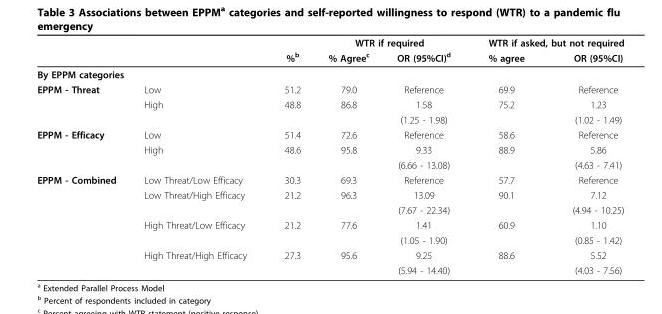table: (36, 36, 623, 275)
table column: (129, 36, 264, 275), (36, 36, 129, 275), (382, 36, 468, 275), (468, 36, 547, 275), (547, 36, 623, 275), (313, 36, 382, 275), (264, 36, 313, 275)
table column header: (36, 36, 623, 65)
table projected row header: (36, 65, 623, 81)
table row: (36, 49, 623, 65), (36, 65, 623, 81), (36, 141, 623, 157), (36, 171, 623, 187), (36, 81, 623, 96), (36, 96, 623, 111), (36, 111, 623, 126), (36, 126, 623, 141), (36, 187, 623, 202), (36, 202, 623, 217), (36, 217, 623, 232), (36, 232, 623, 247), (36, 247, 623, 262), (36, 157, 623, 171), (36, 36, 623, 49), (36, 262, 623, 275)
table spanning cell: (36, 171, 129, 275), (36, 81, 129, 126), (36, 126, 129, 171), (313, 36, 468, 49), (468, 36, 623, 49), (264, 36, 313, 65)
